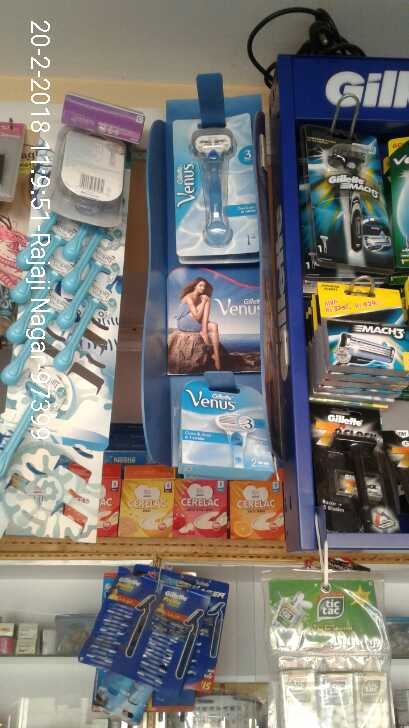beauty: (302, 121, 391, 270), (308, 409, 399, 536), (173, 121, 262, 248), (174, 385, 290, 470), (314, 285, 409, 372)
